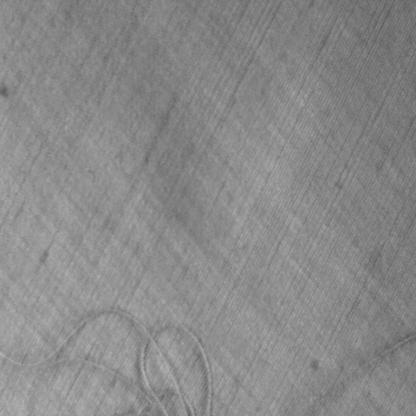objects: (0, 304, 217, 415), (291, 334, 415, 415)
